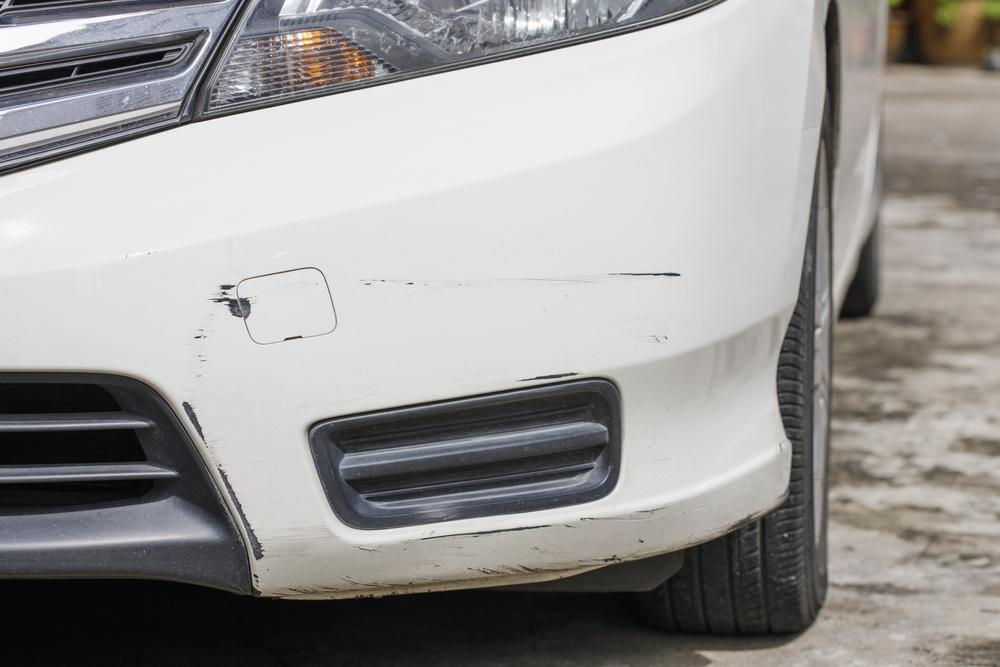scratch: (270, 507, 678, 594), (181, 278, 264, 555), (350, 269, 689, 289), (515, 371, 582, 385)
